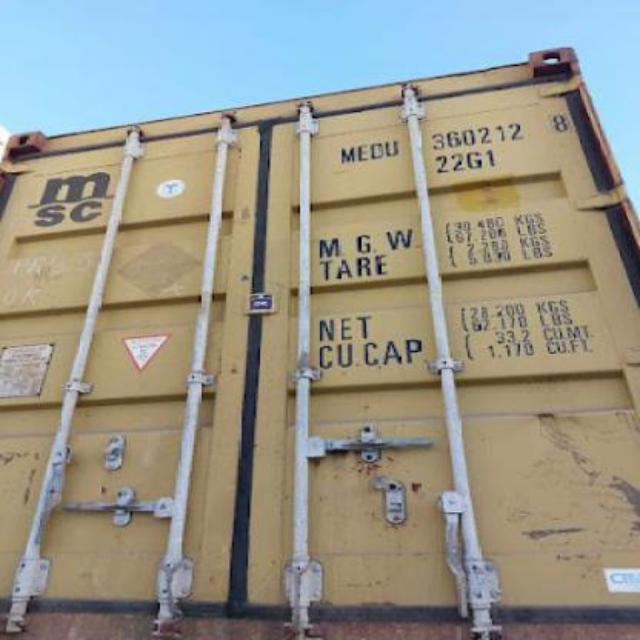0: (464, 129, 476, 147)
1: (496, 122, 506, 144)
2: (508, 121, 526, 142), (478, 126, 492, 144)
3: (430, 136, 446, 148)
6: (446, 129, 459, 147)
8: (552, 114, 568, 132)
D: (371, 144, 384, 160)
E: (358, 144, 370, 162)
M: (338, 147, 354, 163)
U: (384, 140, 400, 156)
